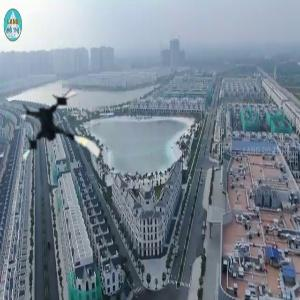drone: (11, 86, 109, 184)
